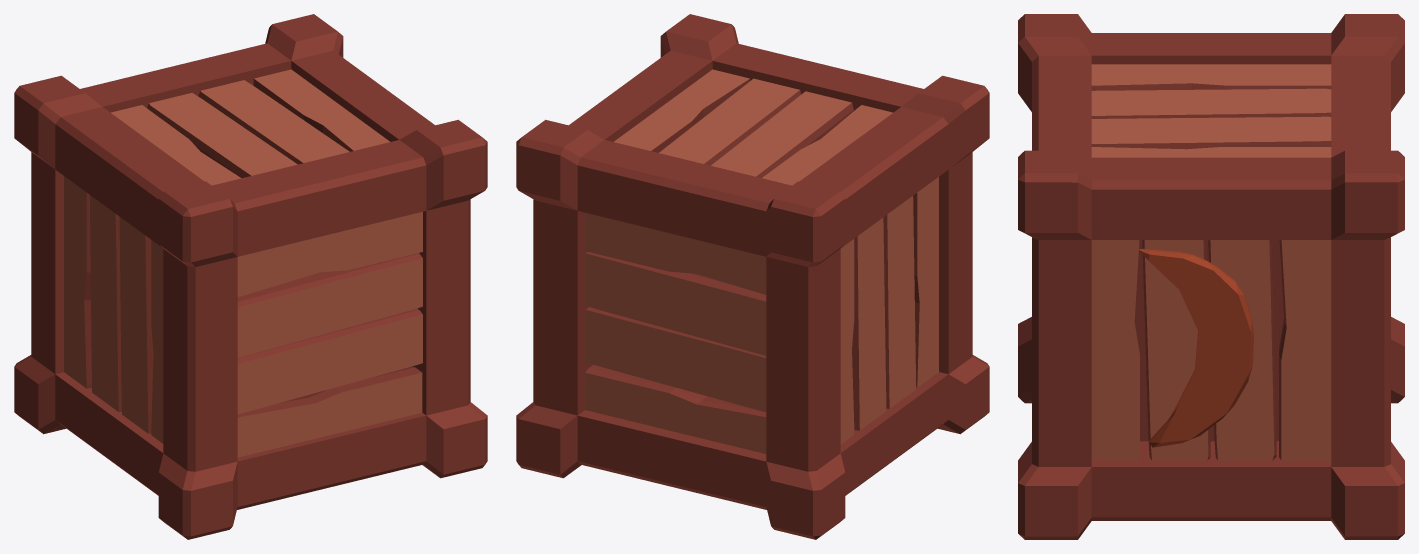
Rendered from MoonBox.fbx.
3 renders of one model, left to right at view 1: azimuth 30°, elevation 25°; view 2: azimuth 150°, elevation 25°; view 3: azimuth 270°, elevation 25°, orthographic. The views are drawn at different scales.
Visible parts, largest first — view 1: Plane.044; view 2: Plane.044; view 3: Plane.044.
Boxes of the visible parts, x1,y1,x2,y2 form: Plane.044: [14, 14, 487, 539]; Plane.044: [516, 14, 989, 539]; Plane.044: [1018, 14, 1404, 539].
Bounding box in the file's own units: 156 × 162 × 154.
